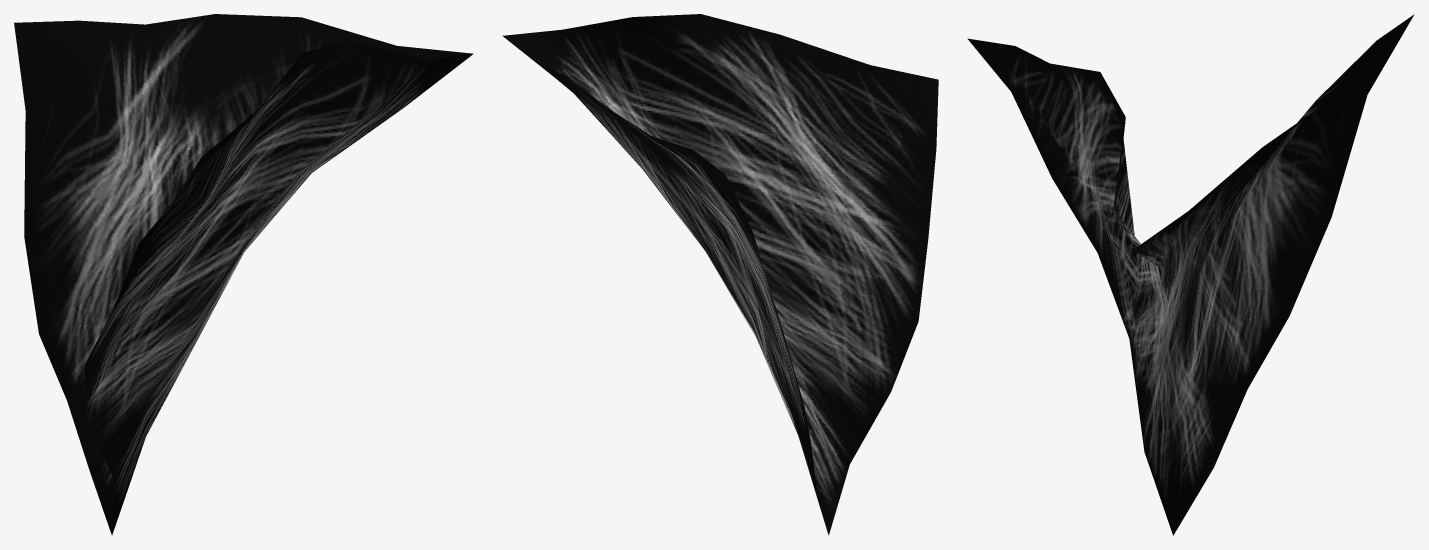
Rendered from SWORDLIGHT20_PS-AREA01_CORNERWEB25.fbx.
3 renders of one model, left to right at view 1: azimuth 30°, elevation 25°; view 2: azimuth 150°, elevation 25°; view 3: azimuth 270°, elevation 25°, orthographic. The views are drawn at different scales.
Parts seen in each view (by area): view 1: SWORDLIGHT20_PS-AREA01_CORNERWEB25; view 2: SWORDLIGHT20_PS-AREA01_CORNERWEB25; view 3: SWORDLIGHT20_PS-AREA01_CORNERWEB25.
Boxes of the visible parts, <box> form: SWORDLIGHT20_PS-AREA01_CORNERWEB25: <box>14,14,473,535</box>; SWORDLIGHT20_PS-AREA01_CORNERWEB25: <box>502,14,938,535</box>; SWORDLIGHT20_PS-AREA01_CORNERWEB25: <box>967,14,1414,535</box>.
Bounding box in the file's own units: 49594 × 54554 × 39719.
Materials: 1 (1 with a texture image).
